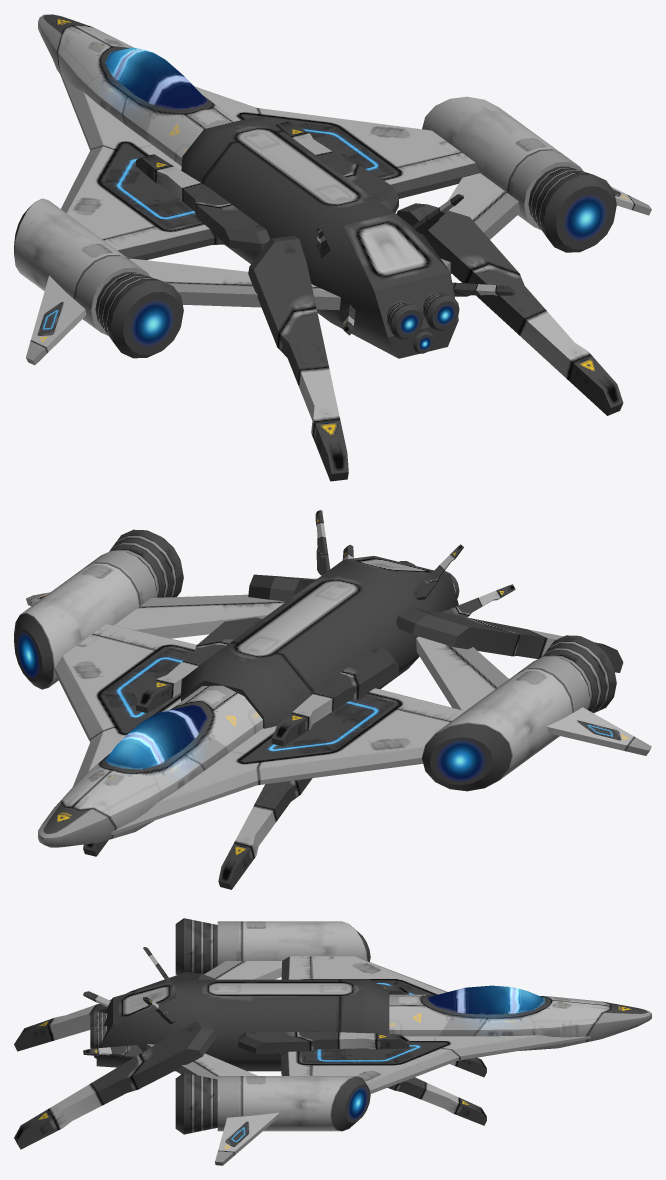
Rendered from scout5.gltf.
3 views of the same model, one above another, from view 1: azimuth 30°, elevation 25°; view 2: azimuth 150°, elevation 25°; view 3: azimuth 270°, elevation 25° (orthographic). The views are drawn at different scales.
Parts seen in each view (by area): view 1: scout5; view 2: scout5; view 3: scout5.
Part boxes in pixels (bbox=[...]): scout5: bbox=[14, 14, 651, 481]; scout5: bbox=[14, 510, 651, 889]; scout5: bbox=[14, 918, 651, 1165].
Bounding box in the file's own units: 10.75 × 2.88 × 13.02.
Materials: 1 (1 with a texture image).
